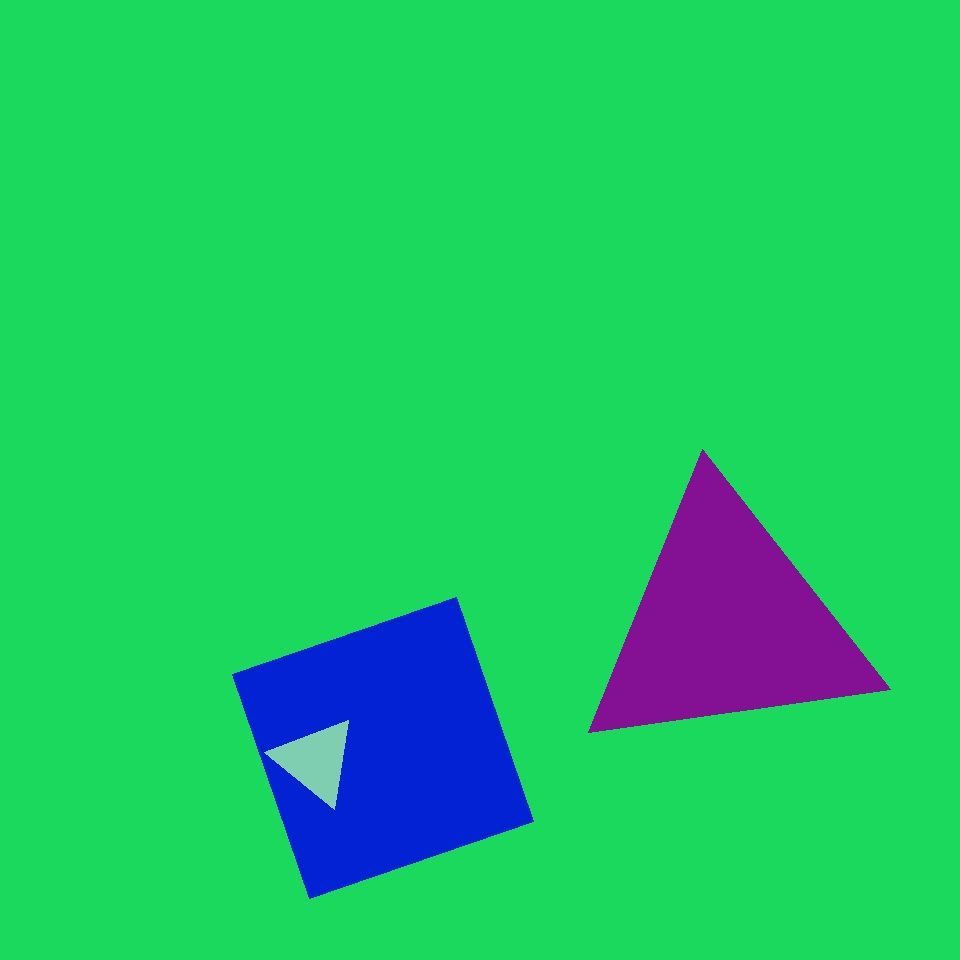circle: (295, 93, 608, 402), (576, 483, 878, 766), (481, 610, 690, 819), (350, 780, 491, 922), (274, 716, 358, 806)
square: (233, 598, 534, 898), (70, 450, 306, 686), (299, 681, 527, 909), (218, 811, 304, 898)
